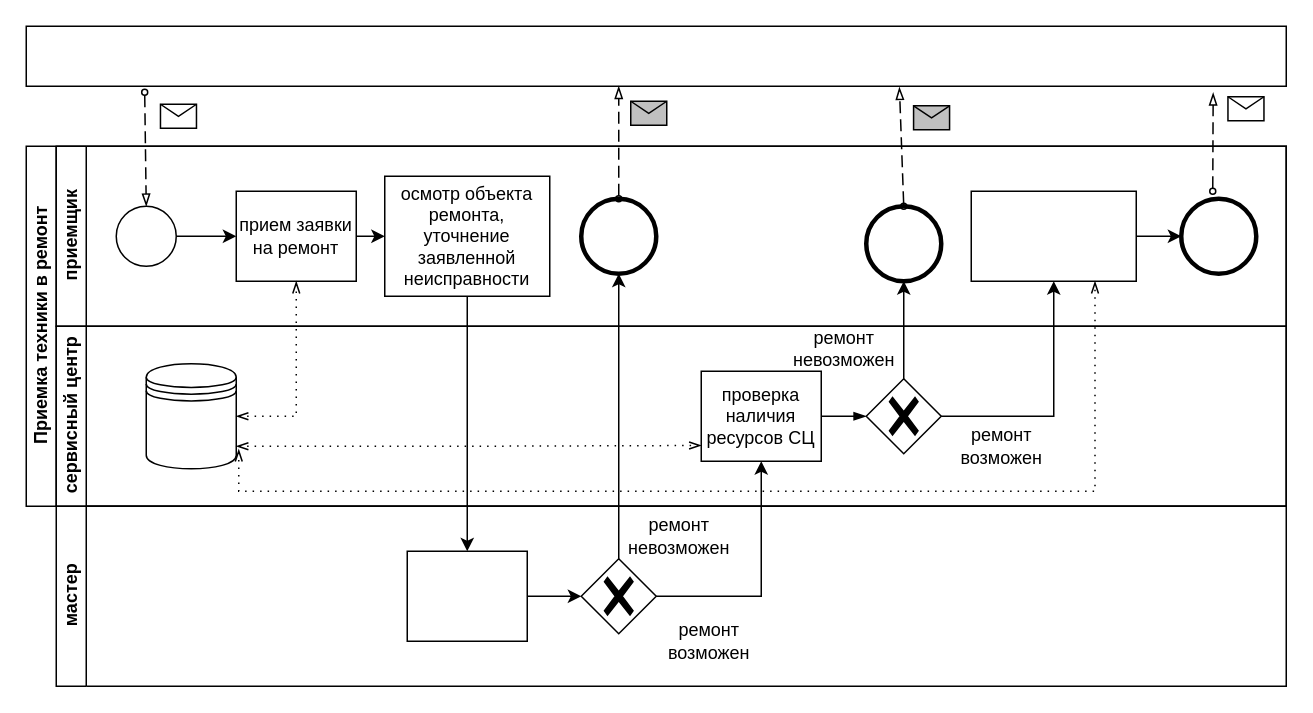
This 1313x713 diagram has some shape labels left out. The centre of each missing label's shape, as x and y in pixels:
клиент: the point at 655,55
определение возможности ремонта мастером: the point at 466,595
прием техники в ремонт и оформление квитанции: the point at 1053,235
система учета: the point at 190,415
